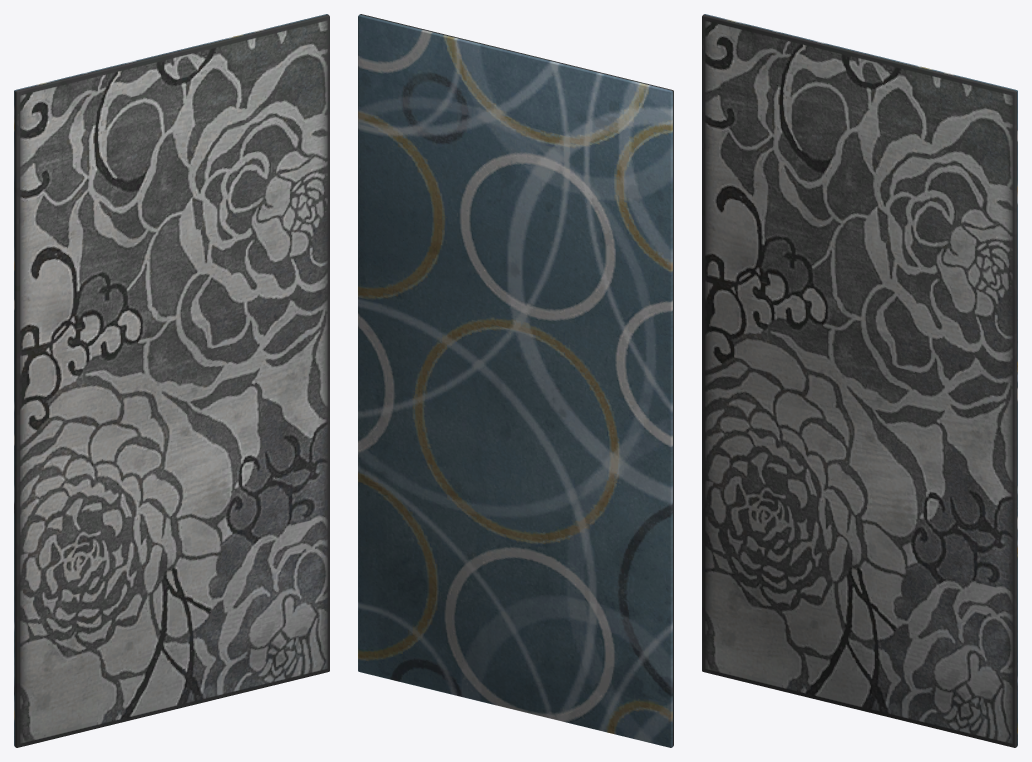
File: p6_rug_modern02_LOD0.obj
The picture shows the model from 3 angles, left to right: view 1: azimuth 30°, elevation 25°; view 2: azimuth 150°, elevation 25°; view 3: azimuth 330°, elevation 25°; orthographic projection.
Parts seen in each view (by area): view 1: mtl_p6_rug_modern02; view 2: mtl_p6_rug_modern02; view 3: mtl_p6_rug_modern02.
Part boxes in pixels (bbox=[...]): mtl_p6_rug_modern02: bbox=[14, 14, 329, 747]; mtl_p6_rug_modern02: bbox=[358, 14, 673, 747]; mtl_p6_rug_modern02: bbox=[702, 14, 1017, 747].
Bounding box in the file's own units: 325 × 650 × 5.3.
